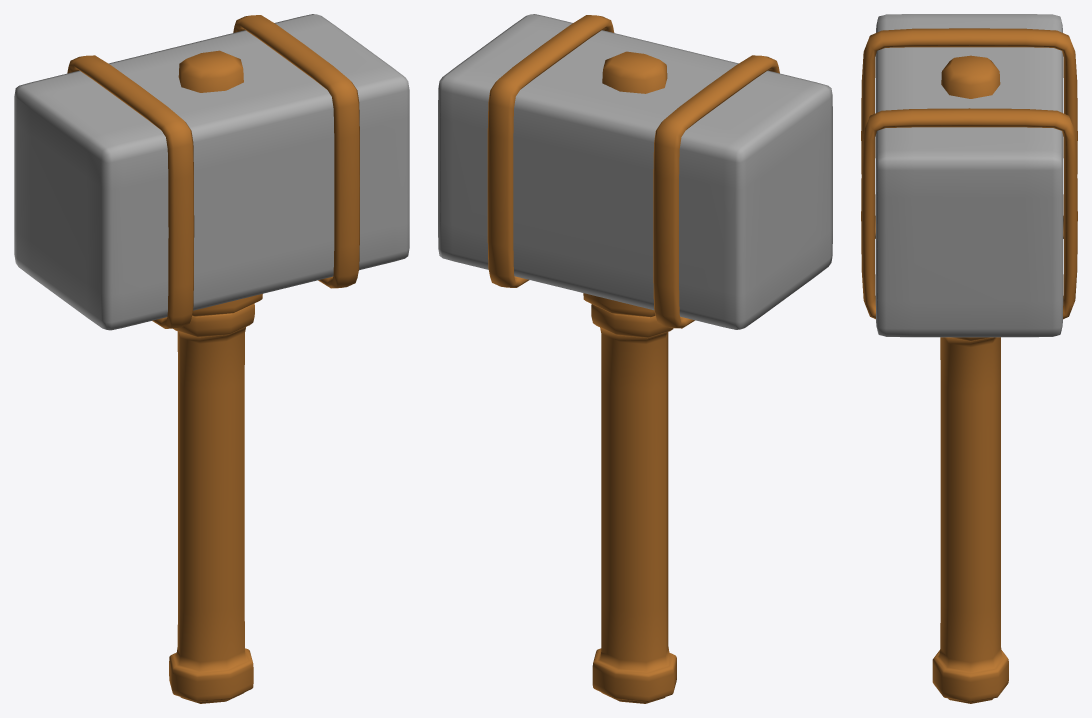
File: Low Poly Smith Hammer.fbx
3 renders of one model, left to right at view 1: azimuth 30°, elevation 25°; view 2: azimuth 150°, elevation 25°; view 3: azimuth 270°, elevation 25°, orthographic.
Parts seen in each view (by area): view 1: Hammer; view 2: Hammer; view 3: Hammer.
Boxes of the visible parts, x1=… form: Hammer: x1=14, y1=14, x2=409, y2=703; Hammer: x1=438, y1=14, x2=832, y2=703; Hammer: x1=861, y1=14, x2=1077, y2=703.
Bounding box in the file's own units: 31.65 × 62.3 × 19.57.
